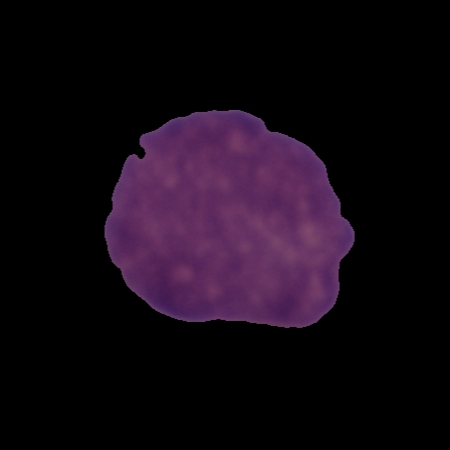HEM: (100, 105, 357, 331)
